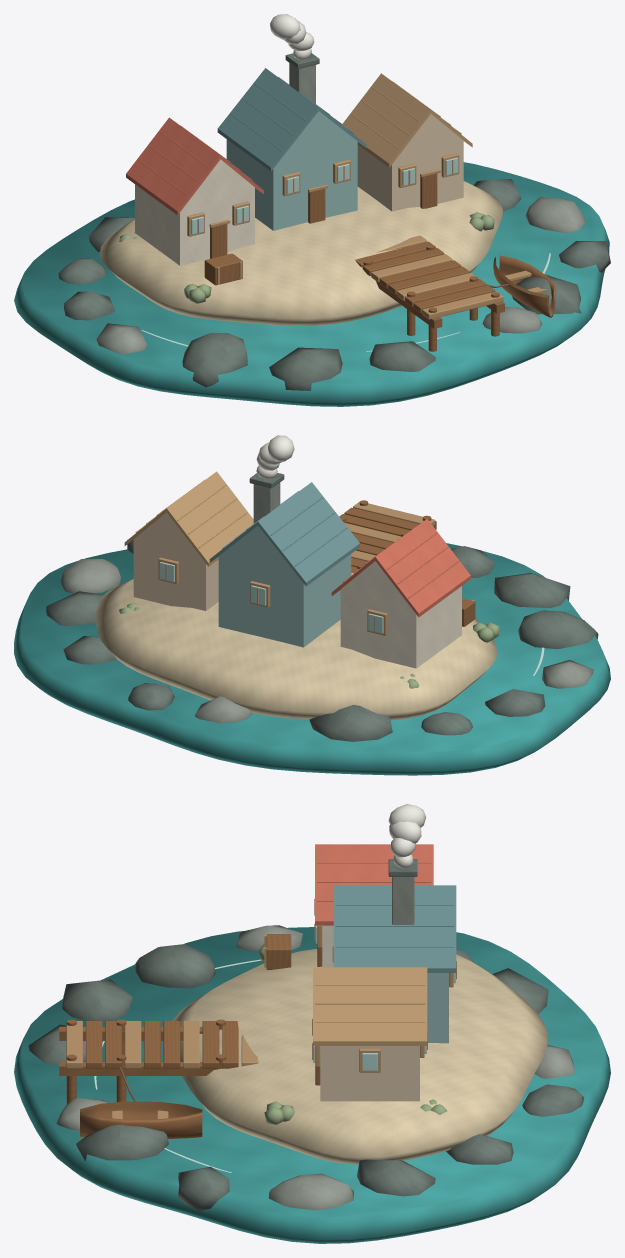
Rendered from fishing-village-v2.fbx.
3 views of the same model, one above another, from view 1: azimuth 30°, elevation 25°; view 2: azimuth 150°, elevation 25°; view 3: azimuth 270°, elevation 25° (orthographic). The views are drawn at different scales.
Visible parts, largest first — view 1: Village | collectible export; view 2: Village | collectible export; view 3: Village | collectible export.
Boxes of the visible parts, left/top/right/bottom form: Village | collectible export: left=14, top=14, right=610, bottom=406; Village | collectible export: left=14, top=435, right=610, bottom=775; Village | collectible export: left=14, top=804, right=610, bottom=1243.
Size of the model in its own units: 171 by 78.27 by 144.
Materials: 17 (7 with a texture image).
